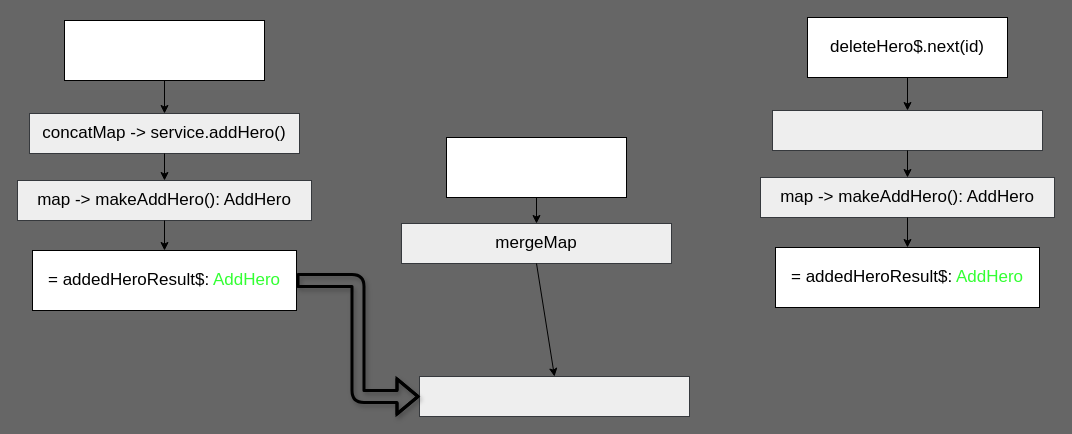
The diagram is 1072 pixels wide and 434 high, and some of its shapes have lost their labels. The shapes that lost their labels are listed below. From the top down, each one's centre as x and y in pixels, then its label:
At (164,50): "addHero$.next(name)".
At (907,130): "concatMap -> service.deleteHero()".
At (536,167): "fromServerStream$".
At (554,396): "merge".
